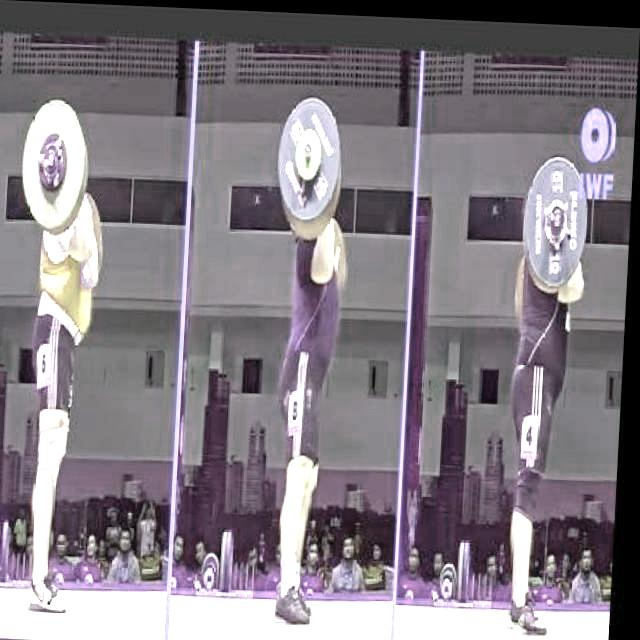barbell: (519, 146, 595, 292), (272, 91, 350, 225), (20, 95, 93, 233)
